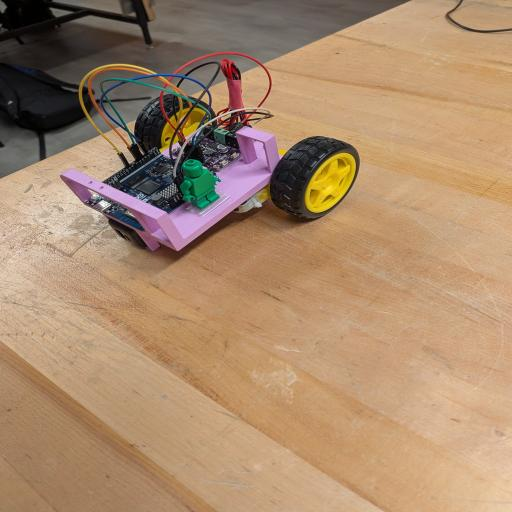Minifig: (180, 159, 221, 210)
